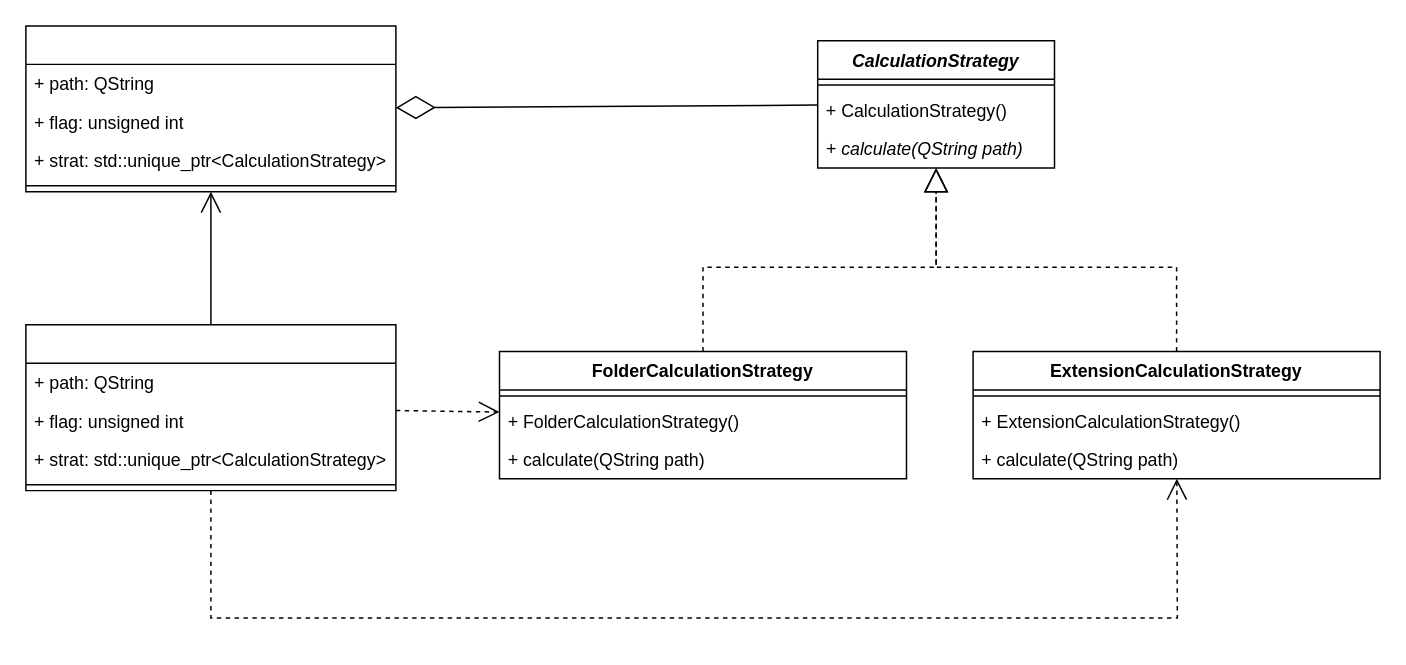
The diagram is 1406 pixels wide and 665 high, and some of its shapes have lost their labels. Each missing label, with the box of its shape:
Main: (24, 323, 396, 491)
PercentCalculator: (24, 24, 396, 192)
